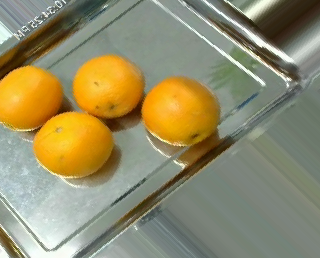Orange: (142, 74, 220, 147), (33, 111, 116, 178), (72, 53, 146, 117), (1, 65, 63, 132)
